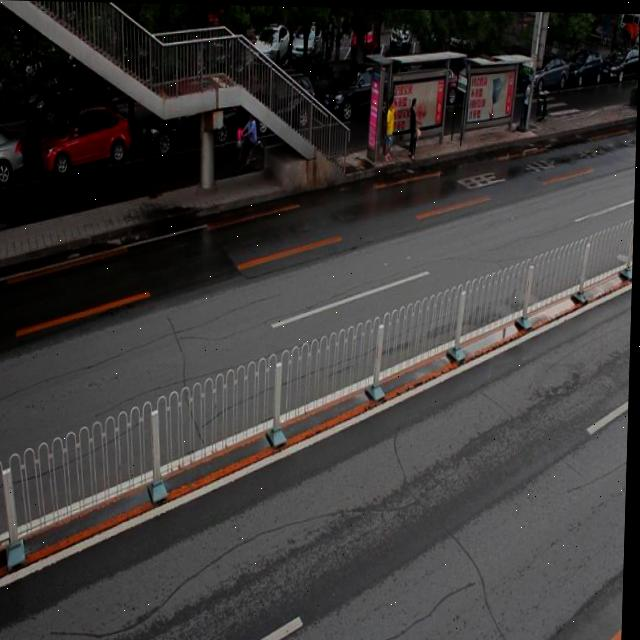car: (42, 105, 133, 170), (142, 93, 237, 153), (239, 74, 317, 136), (321, 64, 396, 124), (0, 118, 26, 187)
